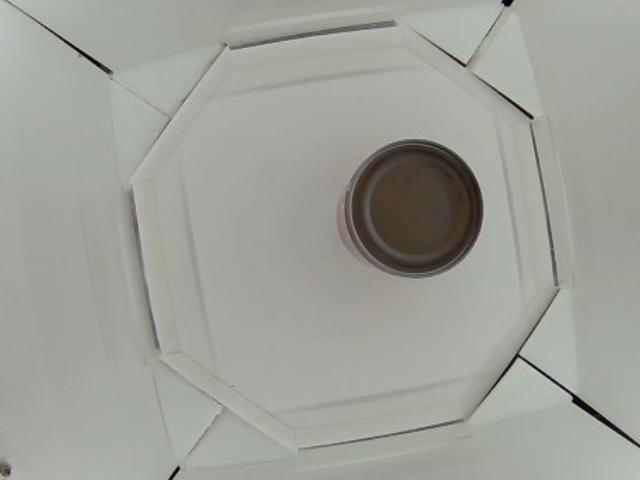Bottle: (340, 138, 488, 277)
